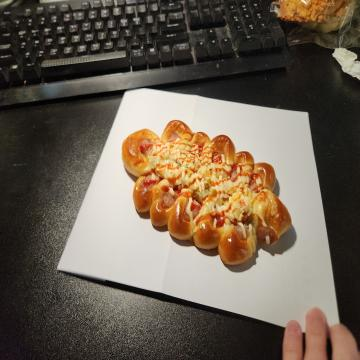pizza_bread: (122, 120, 291, 266)
